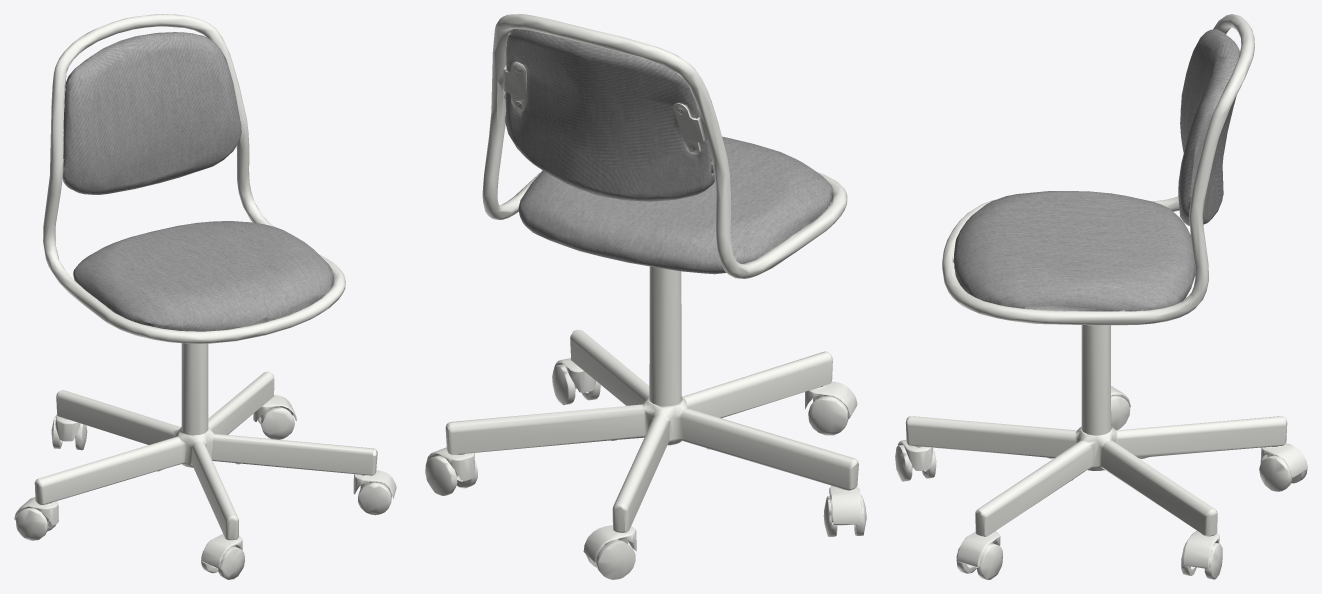
File: 40 - ÖRFJÄLL Children_s desk chair - whiteVissle light grey.glb
3 views of the same model, side by side, from view 1: azimuth 30°, elevation 25°; view 2: azimuth 150°, elevation 25°; view 3: azimuth 270°, elevation 25° (orthographic). The views are drawn at different scales.
Parts seen in each view (by area): view 1: ProcessedMeshNode; view 2: ProcessedMeshNode; view 3: ProcessedMeshNode.
Boxes of the visible parts, x1,y1,x2,y2 form: ProcessedMeshNode: [14, 14, 396, 579]; ProcessedMeshNode: [425, 14, 866, 579]; ProcessedMeshNode: [895, 14, 1307, 579].
Bounding box in the file's own units: 0.5556 × 0.7143 × 0.5692.
1 material, 1 textured.
